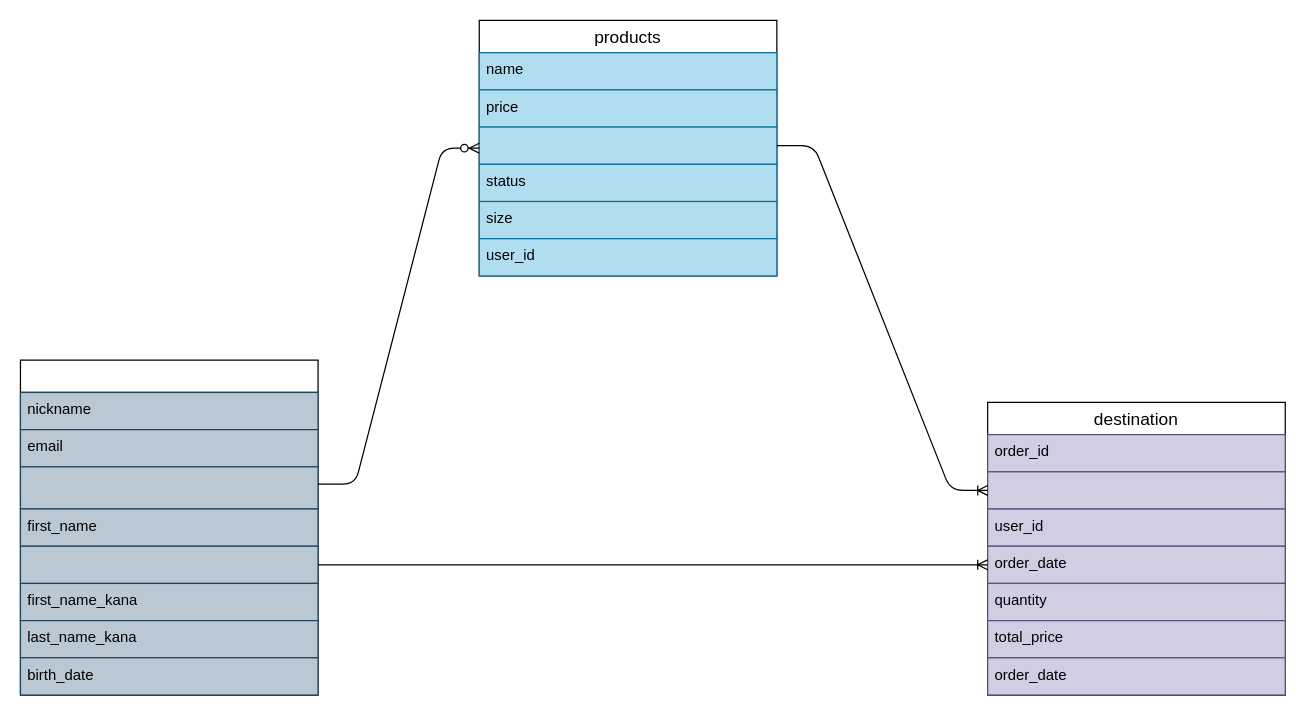
Image size: 1306x715. Some labels were removed from this diagram. Here are the shapes that lost their labels. From the top down, the box of each, then its label:
(478, 126, 777, 164): description
(19, 466, 318, 509): encrypted_password
(986, 471, 1285, 509): product_id
(19, 359, 318, 695): user
(19, 545, 318, 583): last_name
